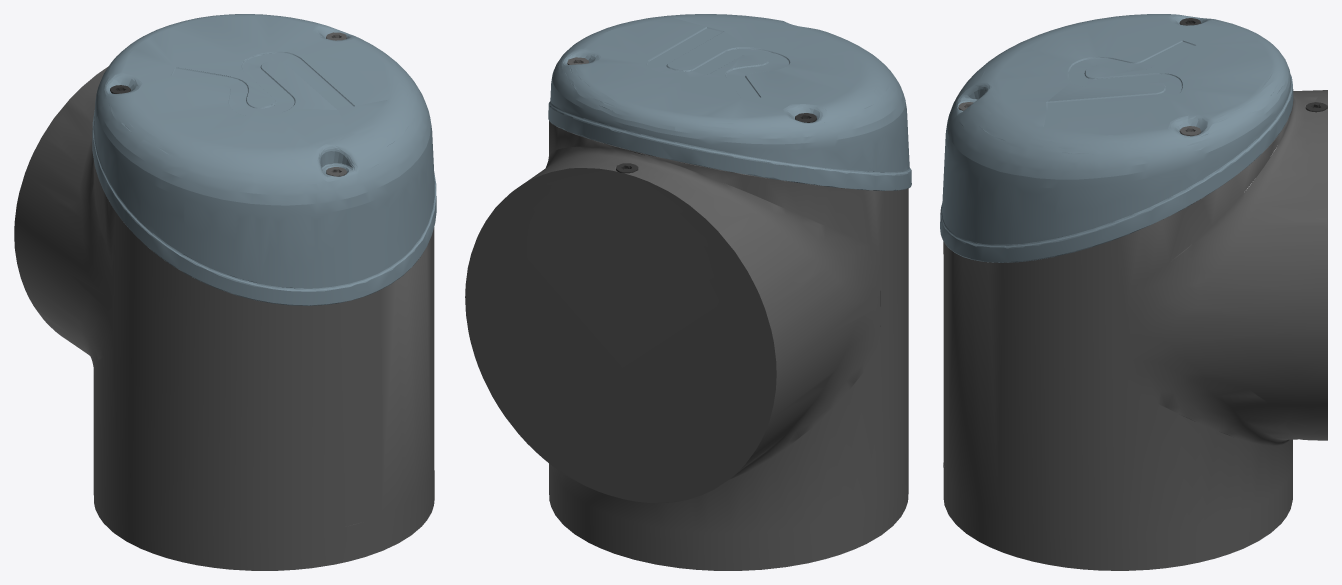
3 renders of one model, left to right at view 1: azimuth 30°, elevation 25°; view 2: azimuth 150°, elevation 25°; view 3: azimuth 270°, elevation 25°, orthographic. The views are drawn at different scales.
Parts seen in each view (by area): view 1: Part__Feature009_001-mesh, Part__Feature004_001-mesh; view 2: Part__Feature009_001-mesh, Part__Feature004_001-mesh; view 3: Part__Feature009_001-mesh, Part__Feature004_001-mesh.
Part boxes in pixels (x1,y1,x2,y2): Part__Feature009_001-mesh: (14,66,434,570); Part__Feature004_001-mesh: (92,14,436,305); Part__Feature009_001-mesh: (465,121,908,570); Part__Feature004_001-mesh: (548,14,911,190); Part__Feature009_001-mesh: (943,90,1327,570); Part__Feature004_001-mesh: (940,14,1293,262).
Size of the model in its own units: 0.091 by 0.1229 by 0.0999.
